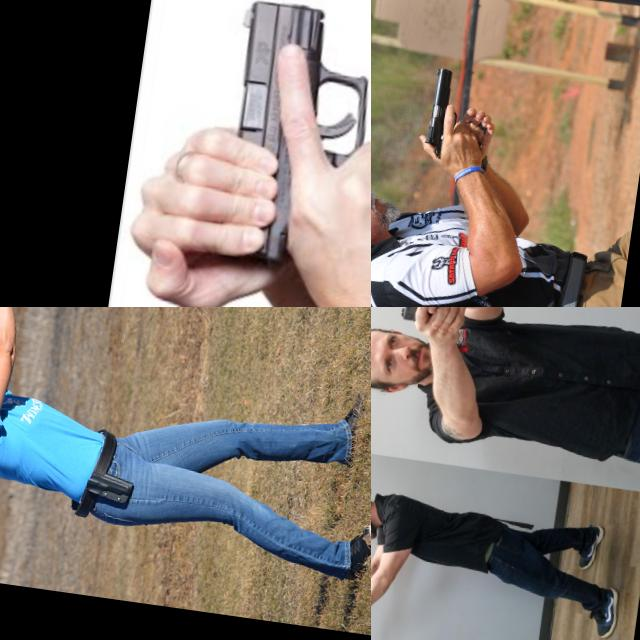handgun: (202, 0, 371, 280), (419, 64, 464, 160), (398, 307, 446, 337), (0, 307, 18, 343), (401, 307, 425, 330), (371, 600, 384, 640)
